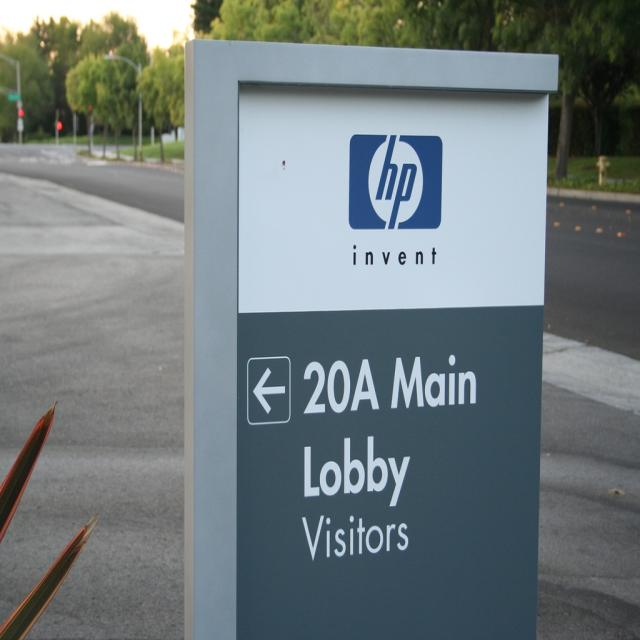HP: (347, 130, 447, 237)
